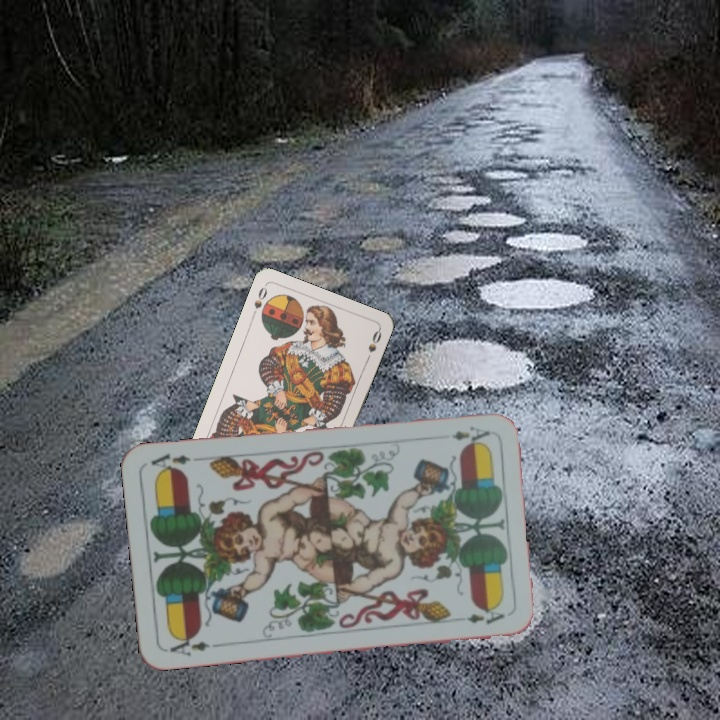EA: (165, 632, 212, 659), (448, 422, 492, 446)
SO: (250, 283, 270, 311)
